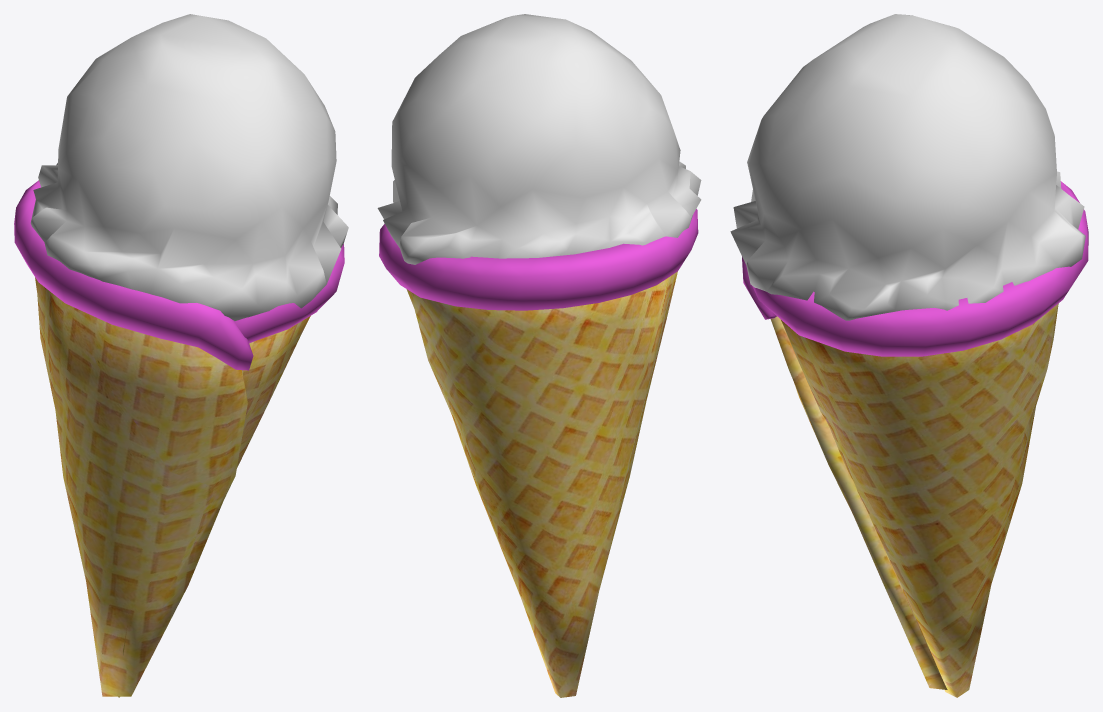
3 views of the same model, side by side, from view 1: azimuth 30°, elevation 25°; view 2: azimuth 150°, elevation 25°; view 3: azimuth 270°, elevation 25° (orthographic). The views are drawn at different scales.
Parts seen in each view (by area): view 1: Ice Cream Lo, Cone, Cone Rim; view 2: Ice Cream Lo, Cone, Cone Rim; view 3: Ice Cream Lo, Cone, Cone Rim.
Part boxes in pixels (x1=…): Ice Cream Lo: x1=30, y1=14, x2=348, y2=320; Cone: x1=35, y1=277, x2=310, y2=697; Cone Rim: x1=14, y1=180, x2=344, y2=370; Ice Cream Lo: x1=377, y1=14, x2=701, y2=264; Cone: x1=406, y1=271, x2=677, y2=697; Cone Rim: x1=379, y1=209, x2=698, y2=310; Ice Cream Lo: x1=730, y1=14, x2=1085, y2=320; Cone: x1=770, y1=303, x2=1058, y2=697; Cone Rim: x1=742, y1=181, x2=1088, y2=356.
Bounding box in the file's own units: 127 × 279 × 131.
